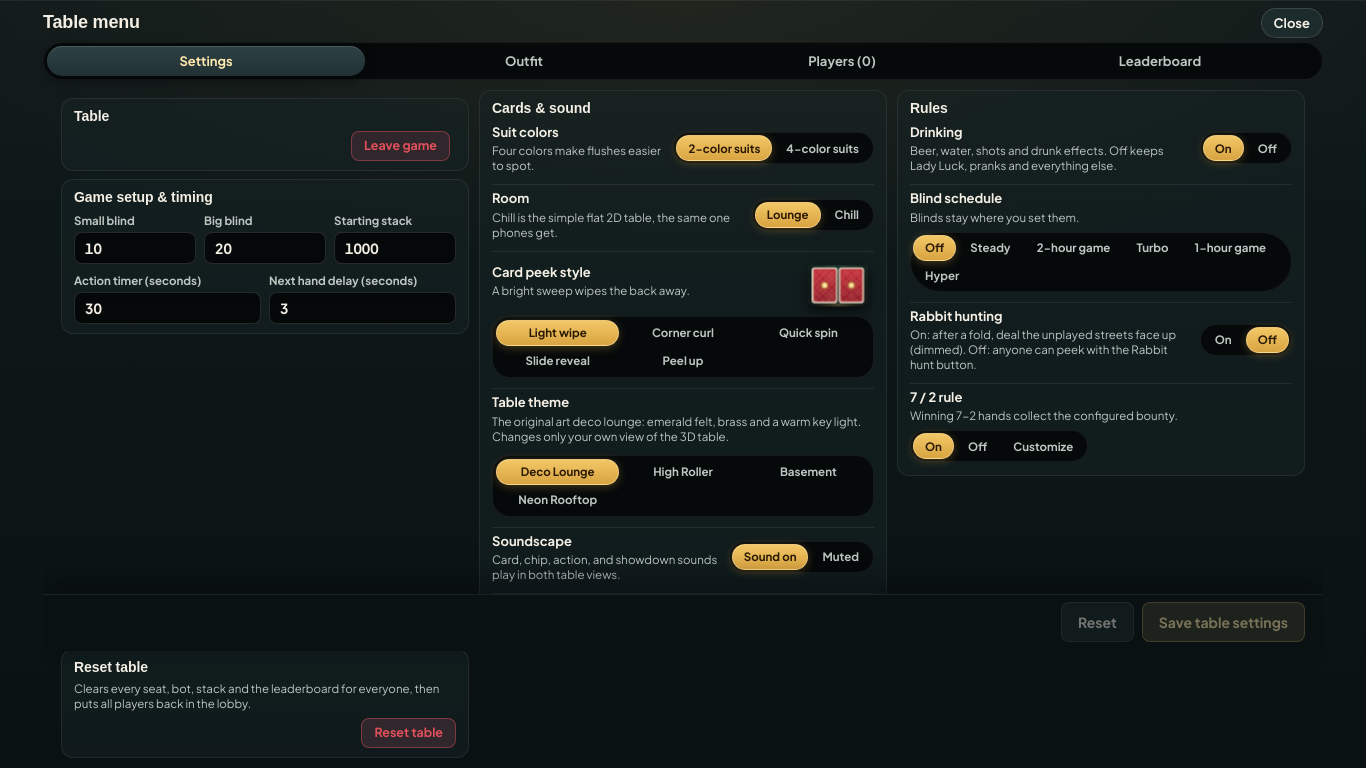
Scenario: SettingsModal › preserves unsaved numeric edits through rule toggles and resets to the server snapshot
Step 1. Replace the text in the number field labelled "Small blind" with "35" → (135, 248), box [74, 232, 196, 264]
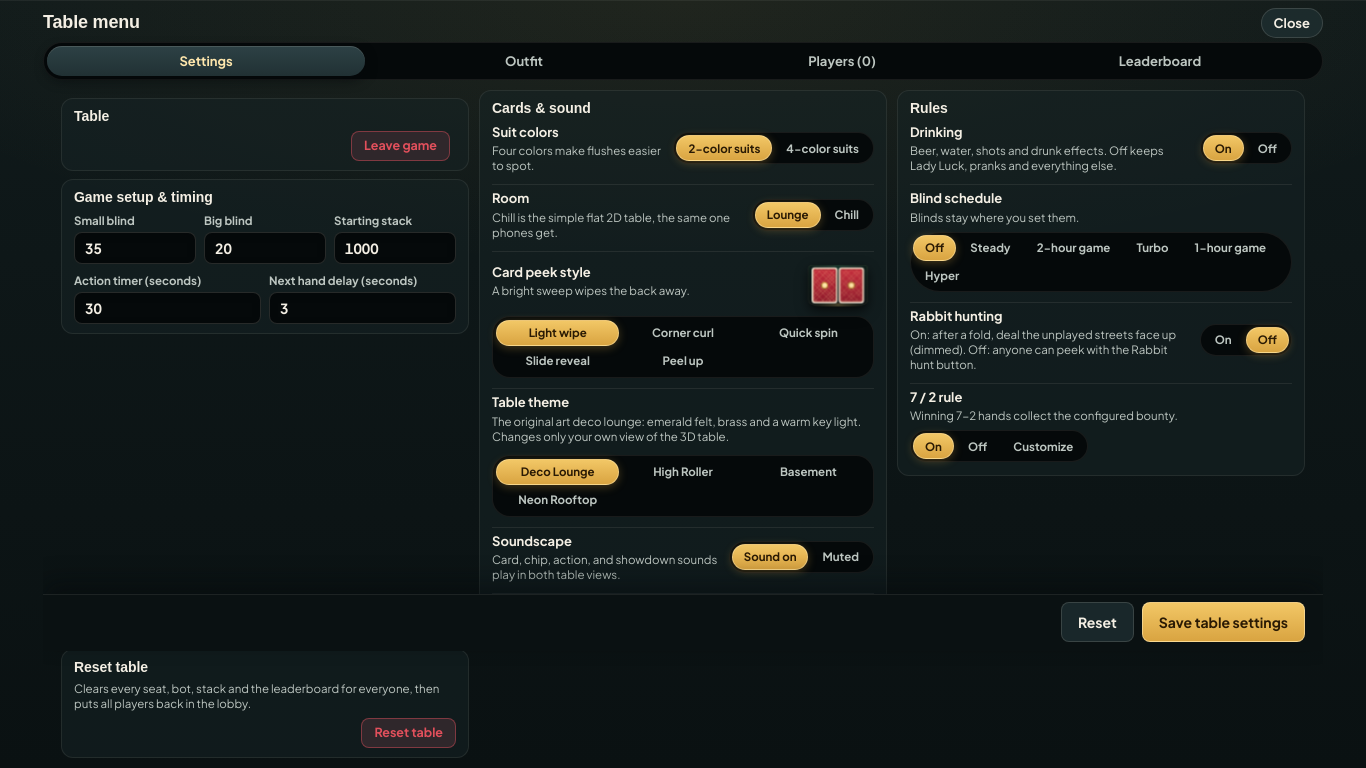
Step 2. Click the button "On" below "Rabbit hunting" → (1223, 340), box [1203, 327, 1244, 353]
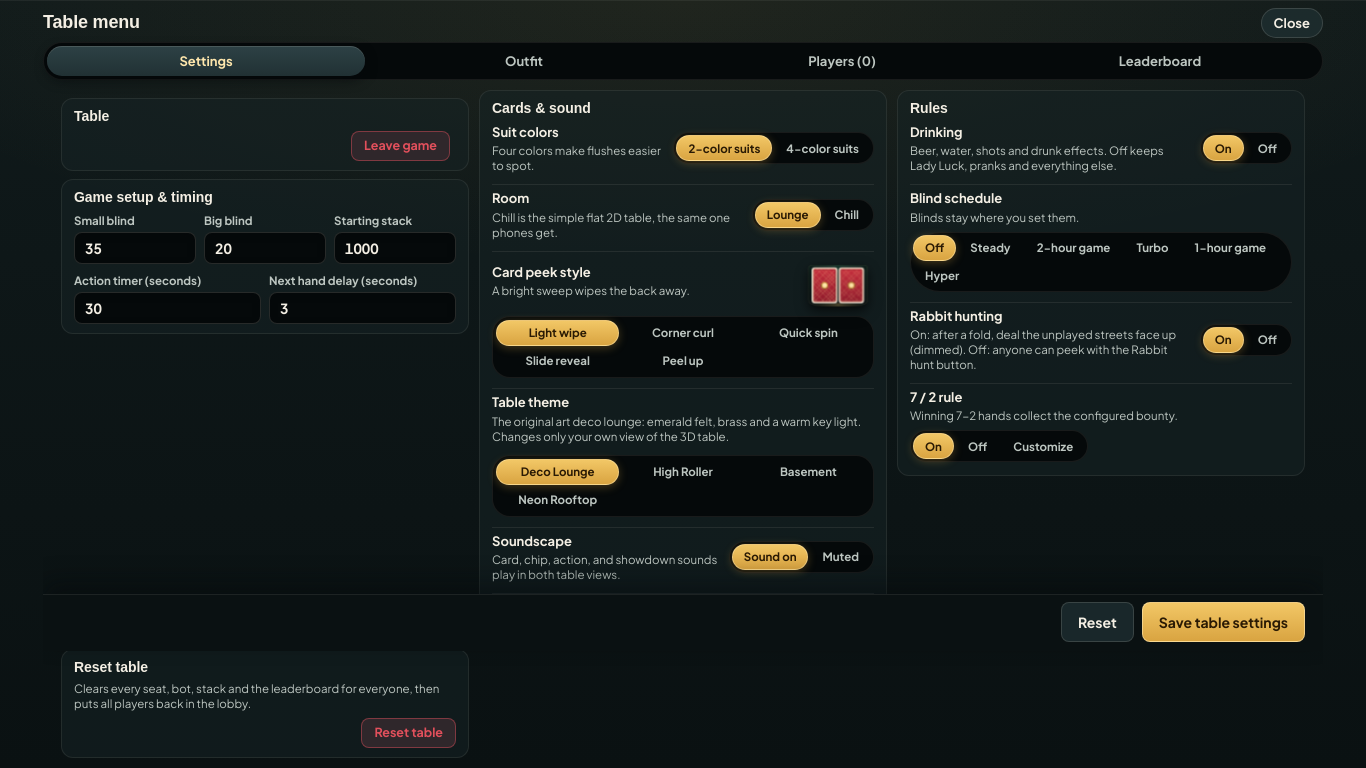
Step 3. Click the button "Reset" → (1097, 622), box [1061, 602, 1134, 642]
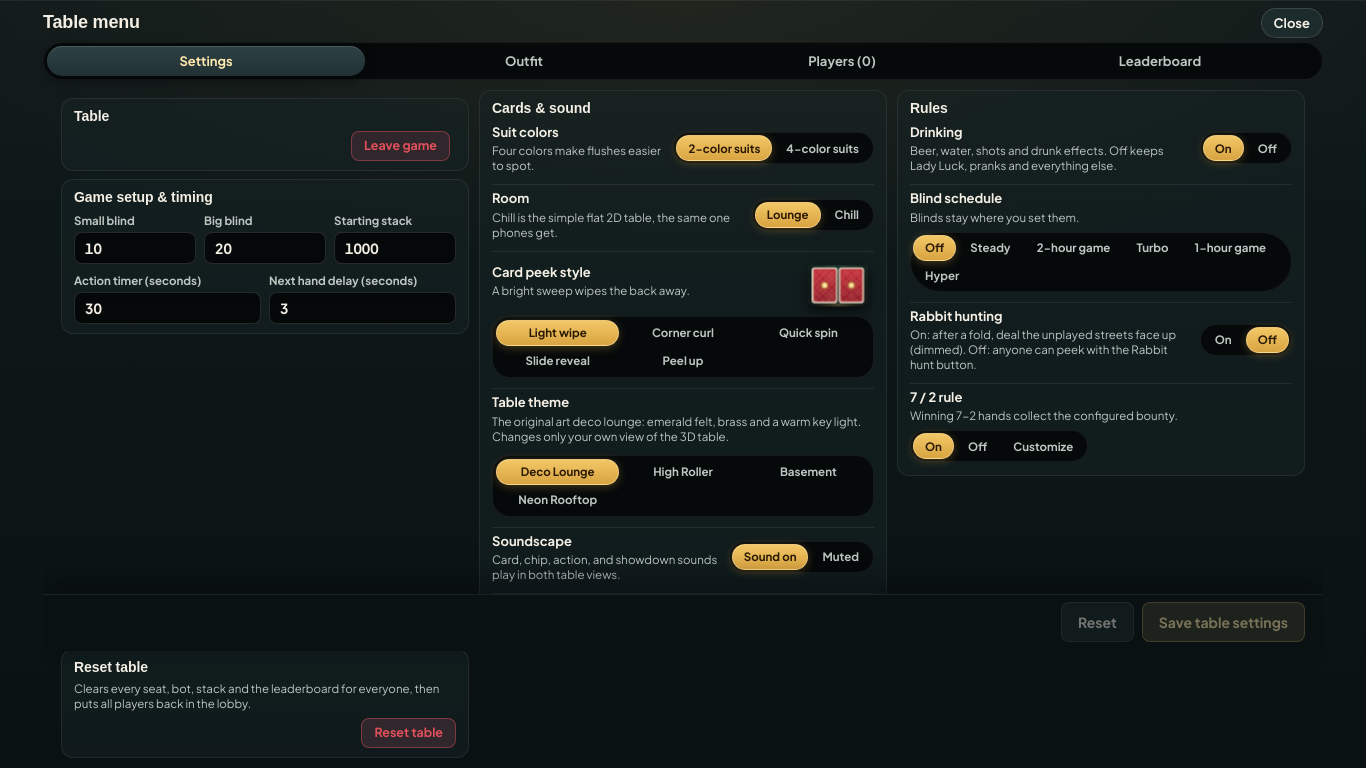
Check: the number field labelled "Small blind" holds "10", box [74, 232, 196, 264]
Check: the button "Save table settings" is disabled, box [1142, 602, 1305, 642]
